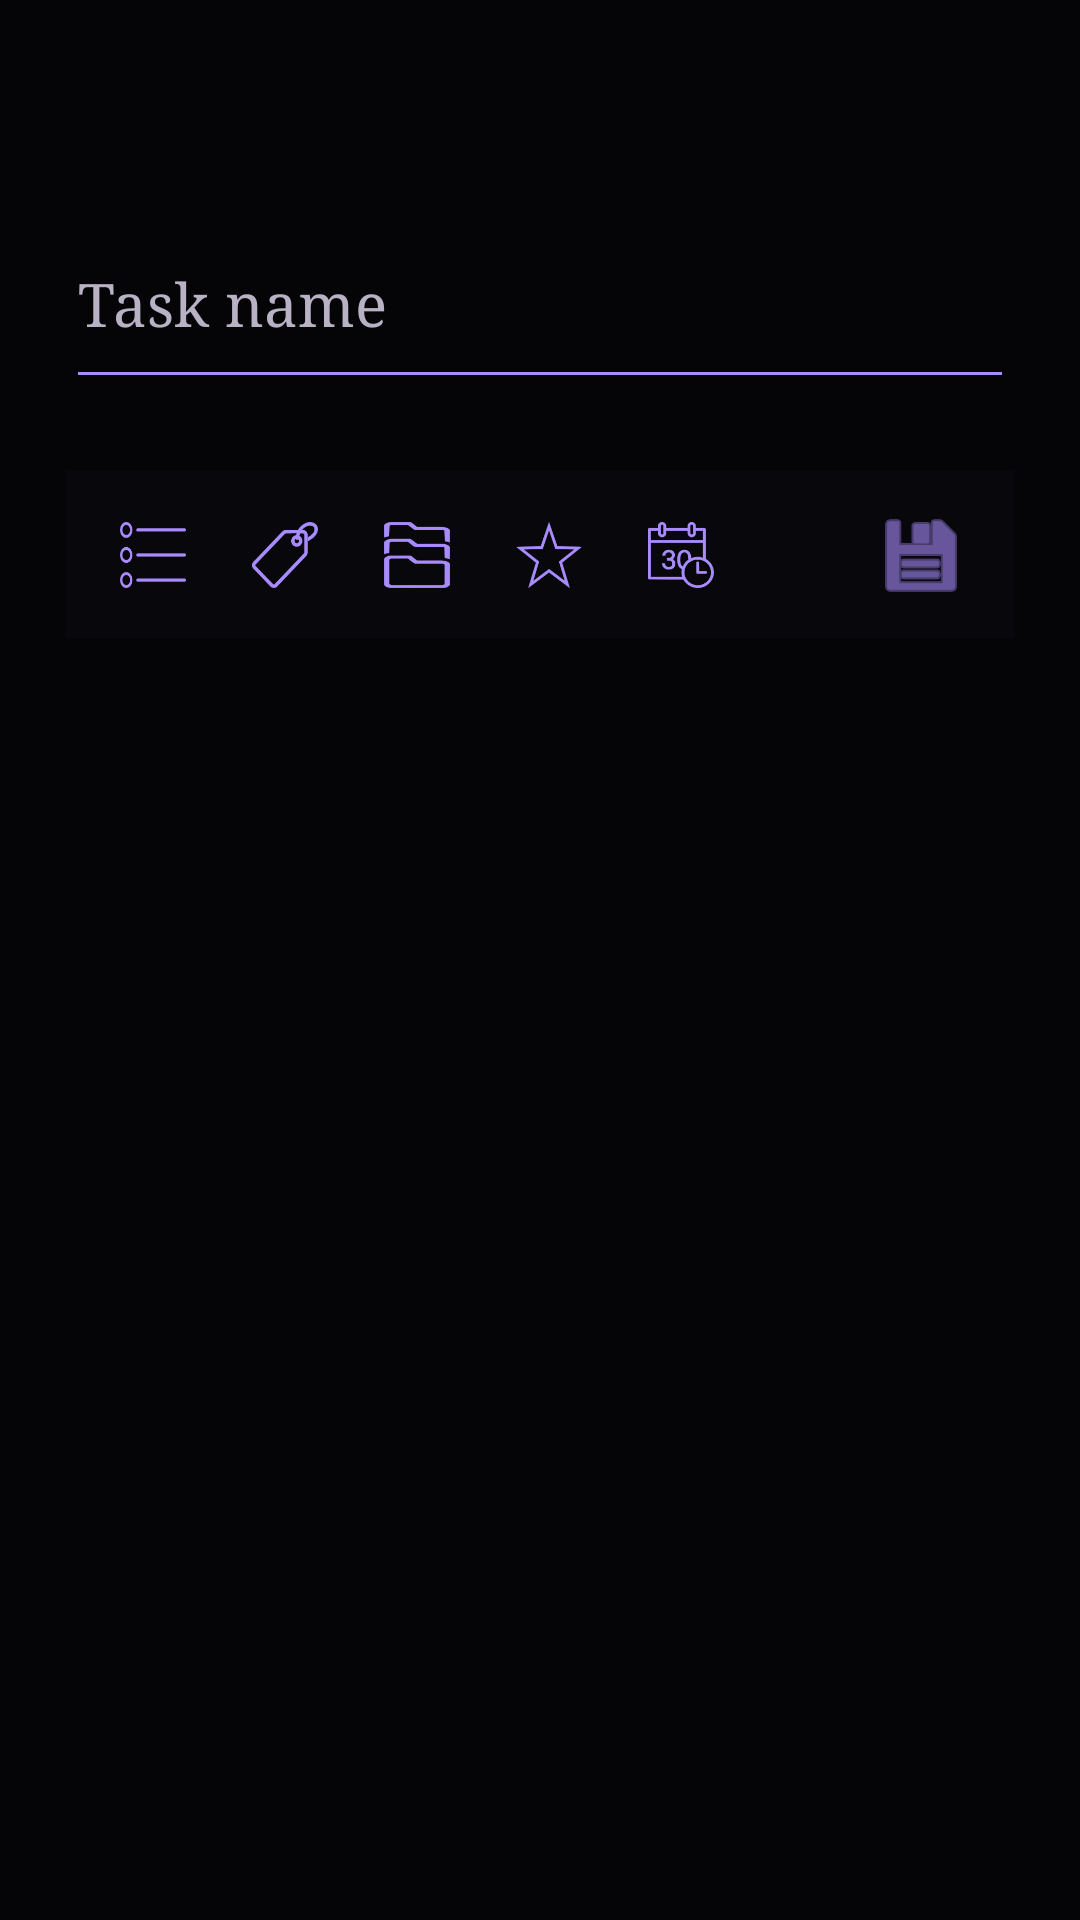

Icon bounding boxes for this 1080px×1920px phone screenshot, format (x1, y1, x2, y2):
Add area of focus: (384, 522, 450, 588)
Add context: (120, 522, 186, 588)
Add due date: (648, 522, 714, 588)
Add priority: (516, 522, 582, 588)
Add project tag: (252, 522, 318, 588)
Save task: (885, 519, 957, 592)
